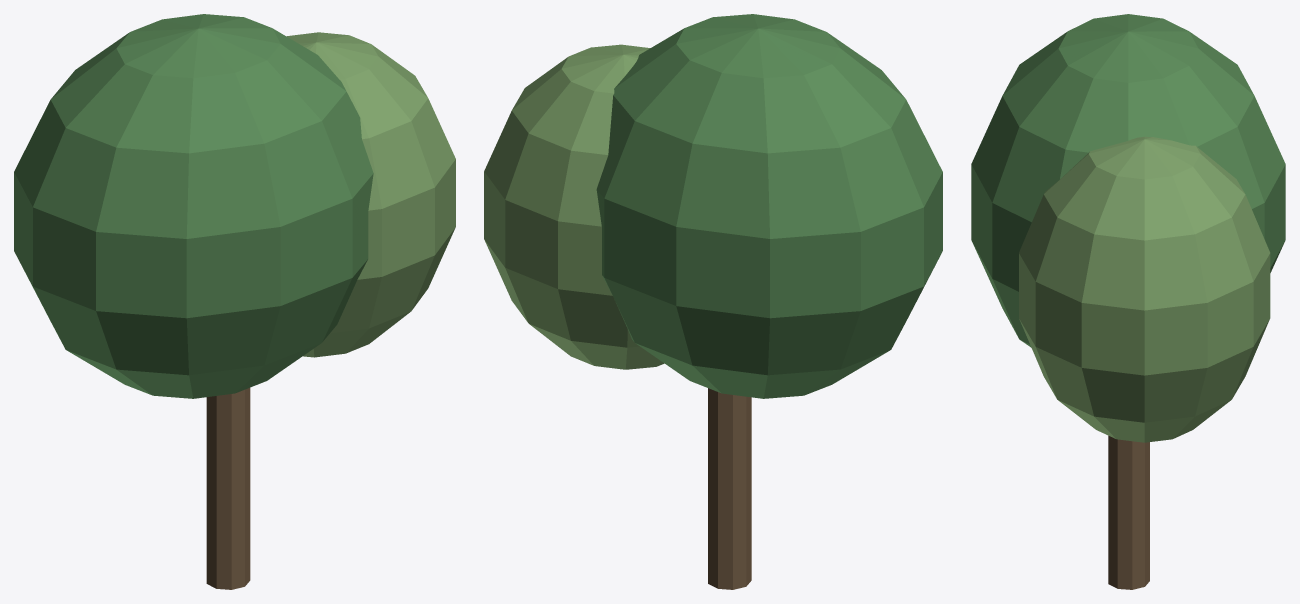
File: norway-alder_lod0.glb
The picture shows the model from 3 angles, left to right: view 1: azimuth 30°, elevation 25°; view 2: azimuth 150°, elevation 25°; view 3: azimuth 270°, elevation 25°; orthographic projection. The views are drawn at different scales.
Visible parts, largest first — view 1: RF_Alder_Crown, RF_Alder_CrownLight, RF_Alder_Trunk; view 2: RF_Alder_Crown, RF_Alder_CrownLight, RF_Alder_Trunk; view 3: RF_Alder_CrownLight, RF_Alder_Crown, RF_Alder_Trunk.
Part boxes in pixels (left/top/right/bottom): RF_Alder_Crown: left=14, top=14, right=373, bottom=398; RF_Alder_CrownLight: left=287, top=32, right=455, bottom=357; RF_Alder_Trunk: left=206, top=388, right=250, bottom=589; RF_Alder_Crown: left=596, top=14, right=942, bottom=398; RF_Alder_CrownLight: left=484, top=44, right=664, bottom=369; RF_Alder_Trunk: left=708, top=388, right=751, bottom=589; RF_Alder_CrownLight: left=1019, top=136, right=1270, bottom=442; RF_Alder_Crown: left=971, top=14, right=1285, bottom=347; RF_Alder_Trunk: left=1108, top=435, right=1149, bottom=589.
Size of the model in its own units: 8.55 by 11 by 5.85.
